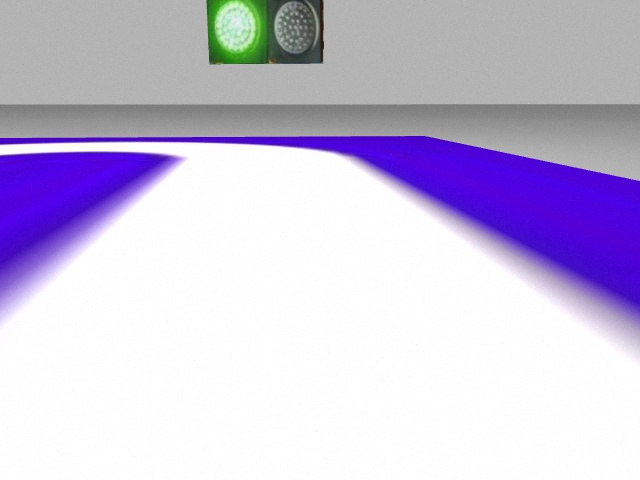green: (206, 2, 270, 64)
